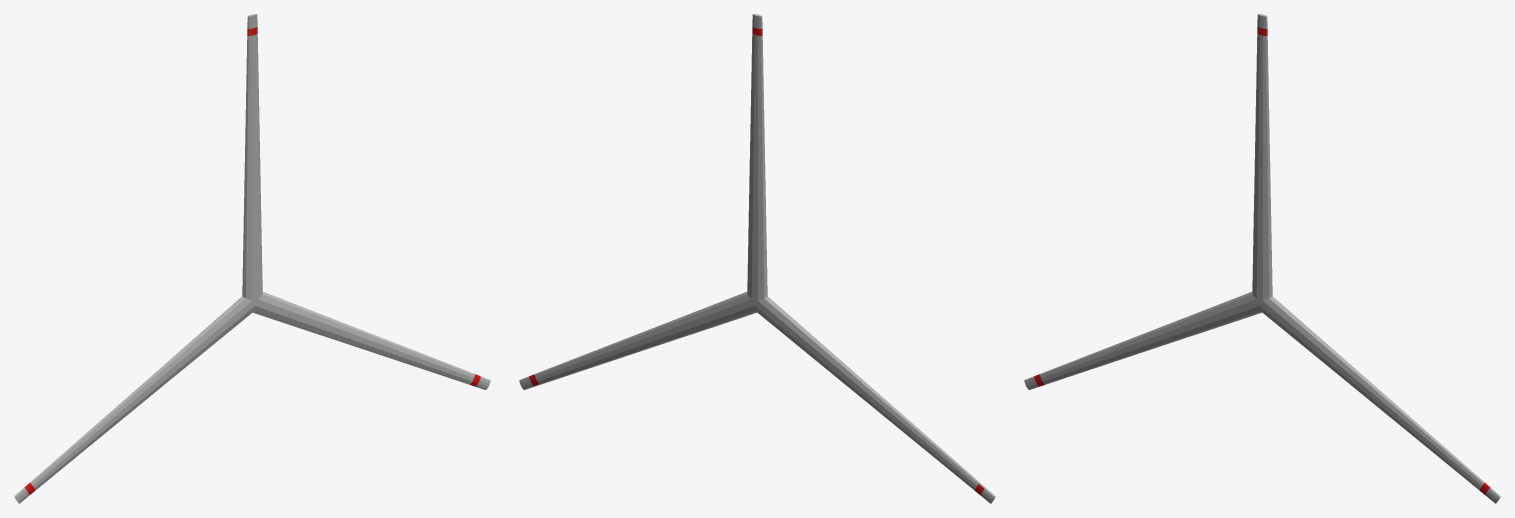
The model's file is SM_windturbine_turbine.FBX.
3 views of the same model, side by side, from view 1: azimuth 30°, elevation 25°; view 2: azimuth 150°, elevation 25°; view 3: azimuth 330°, elevation 25° (orthographic).
Visible parts, largest first — view 1: windturbine_turbine; view 2: windturbine_turbine; view 3: windturbine_turbine.
Part boxes in pixels (<box>): windturbine_turbine: <box>14,14,490,503</box>; windturbine_turbine: <box>519,14,995,503</box>; windturbine_turbine: <box>1024,14,1500,503</box>.
Size of the model in its own units: 1750 by 1516 by 33.72.
